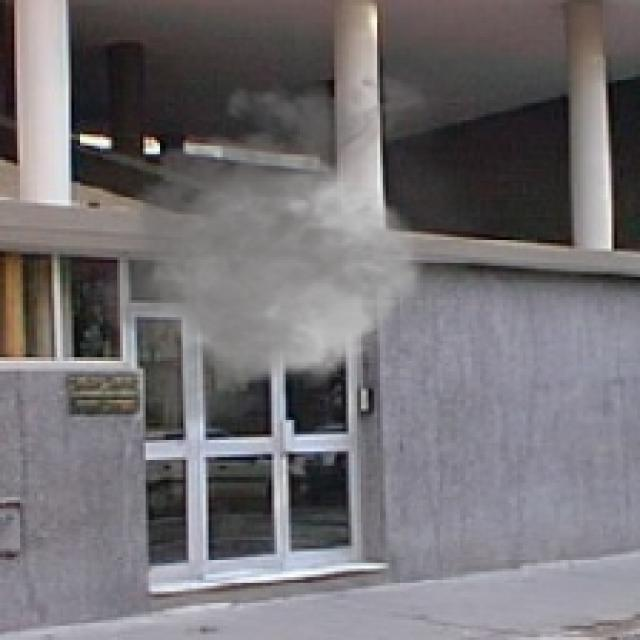Smoke: (72, 63, 497, 440)
